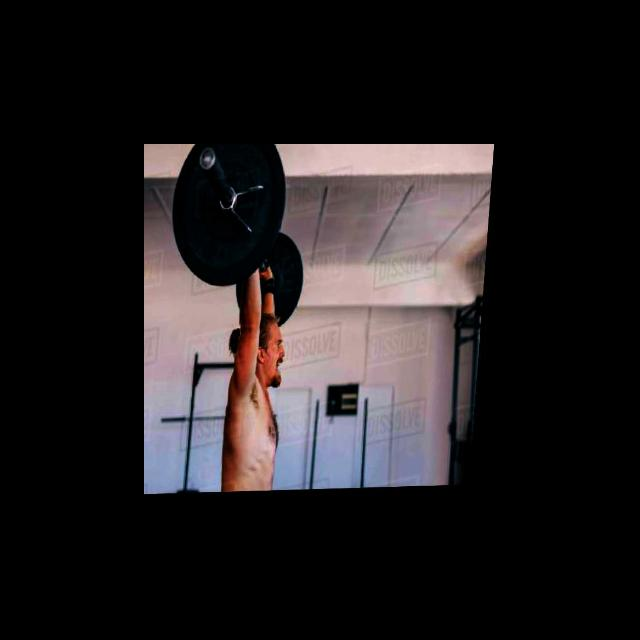barbell: (167, 144, 293, 290)
